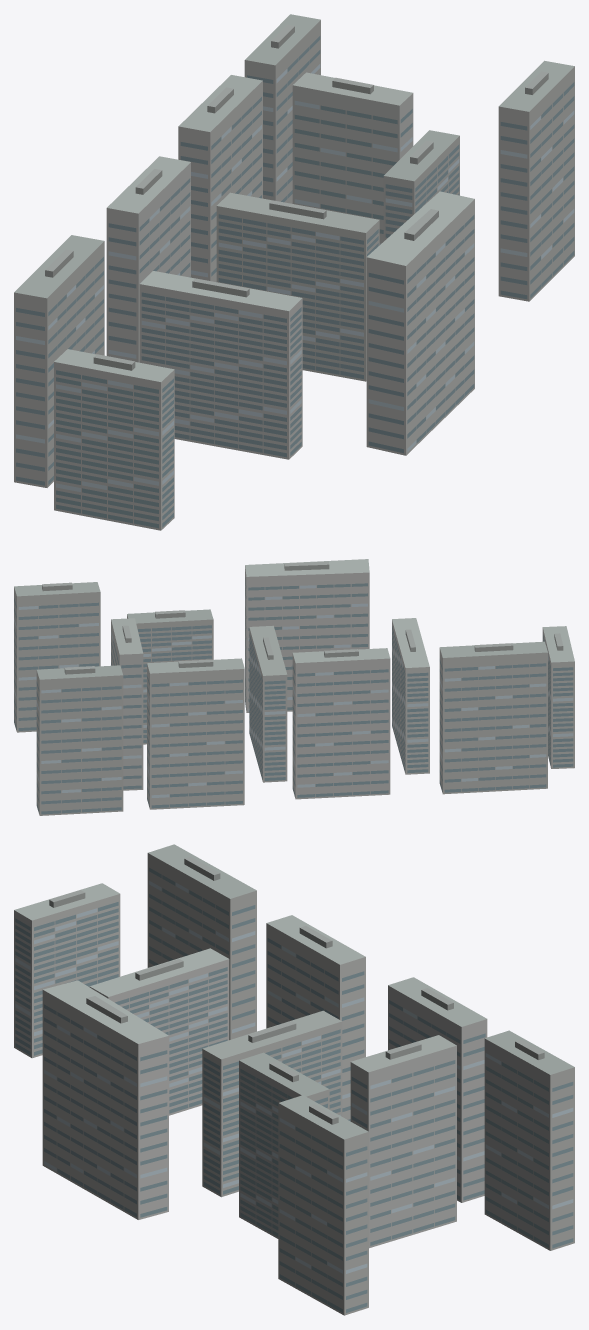
File: apt-a15205513.glb
The picture shows the model from 3 angles, top to bottom: view 1: azimuth 30°, elevation 25°; view 2: azimuth 150°, elevation 25°; view 3: azimuth 270°, elevation 25°; orthographic projection. The views are drawn at different scales.
Parts seen in each view (by area): view 1: apt-a15205513; view 2: apt-a15205513; view 3: apt-a15205513.
Part boxes in pixels (x1,y1,x2,y2): apt-a15205513: (14, 14, 574, 530); apt-a15205513: (14, 559, 574, 815); apt-a15205513: (14, 844, 574, 1315).
Bounding box in the file's own units: 265 × 76 × 213.
